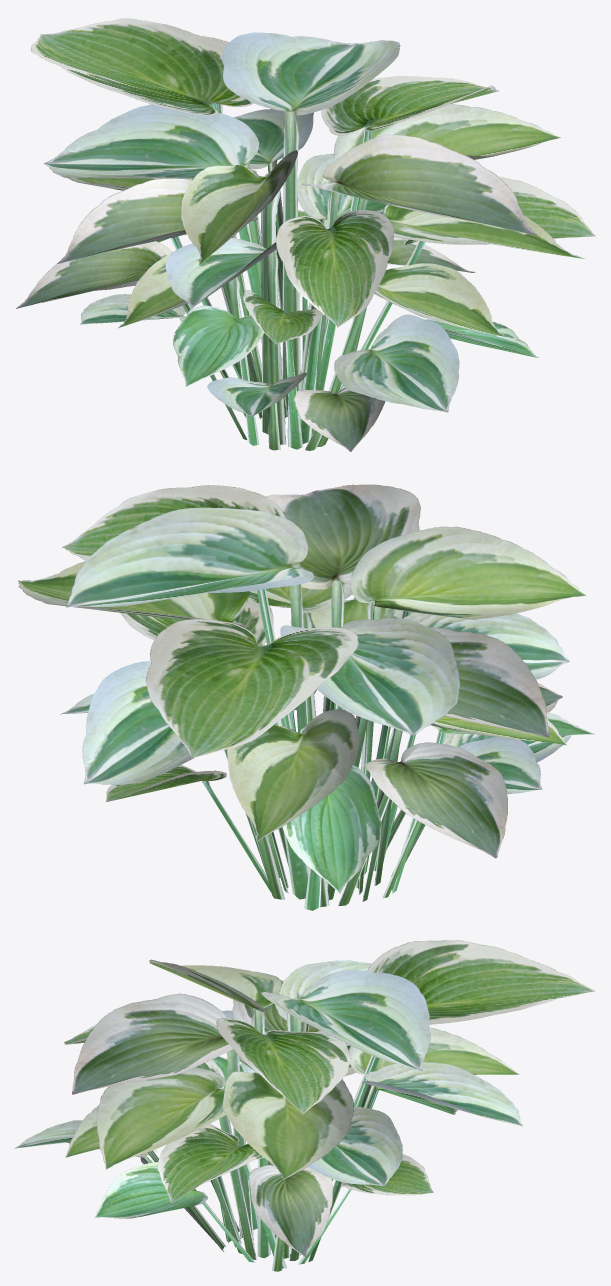
The model's file is plant_small_wg_00Z2.fbx.
3 views of the same model, one above another, from view 1: azimuth 30°, elevation 25°; view 2: azimuth 150°, elevation 25°; view 3: azimuth 270°, elevation 25° (orthographic). The views are drawn at different scales.
Parts seen in each view (by area): view 1: plant_small_wg_00Z2; view 2: plant_small_wg_00Z2; view 3: plant_small_wg_00Z2.
Boxes of the visible parts, bbox=[...] form: plant_small_wg_00Z2: bbox=[16, 18, 595, 451]; plant_small_wg_00Z2: bbox=[18, 484, 594, 910]; plant_small_wg_00Z2: bbox=[14, 940, 594, 1271].
Bounding box in the file's own units: 70.36 × 44.73 × 82.59.
1 material, 1 textured.
